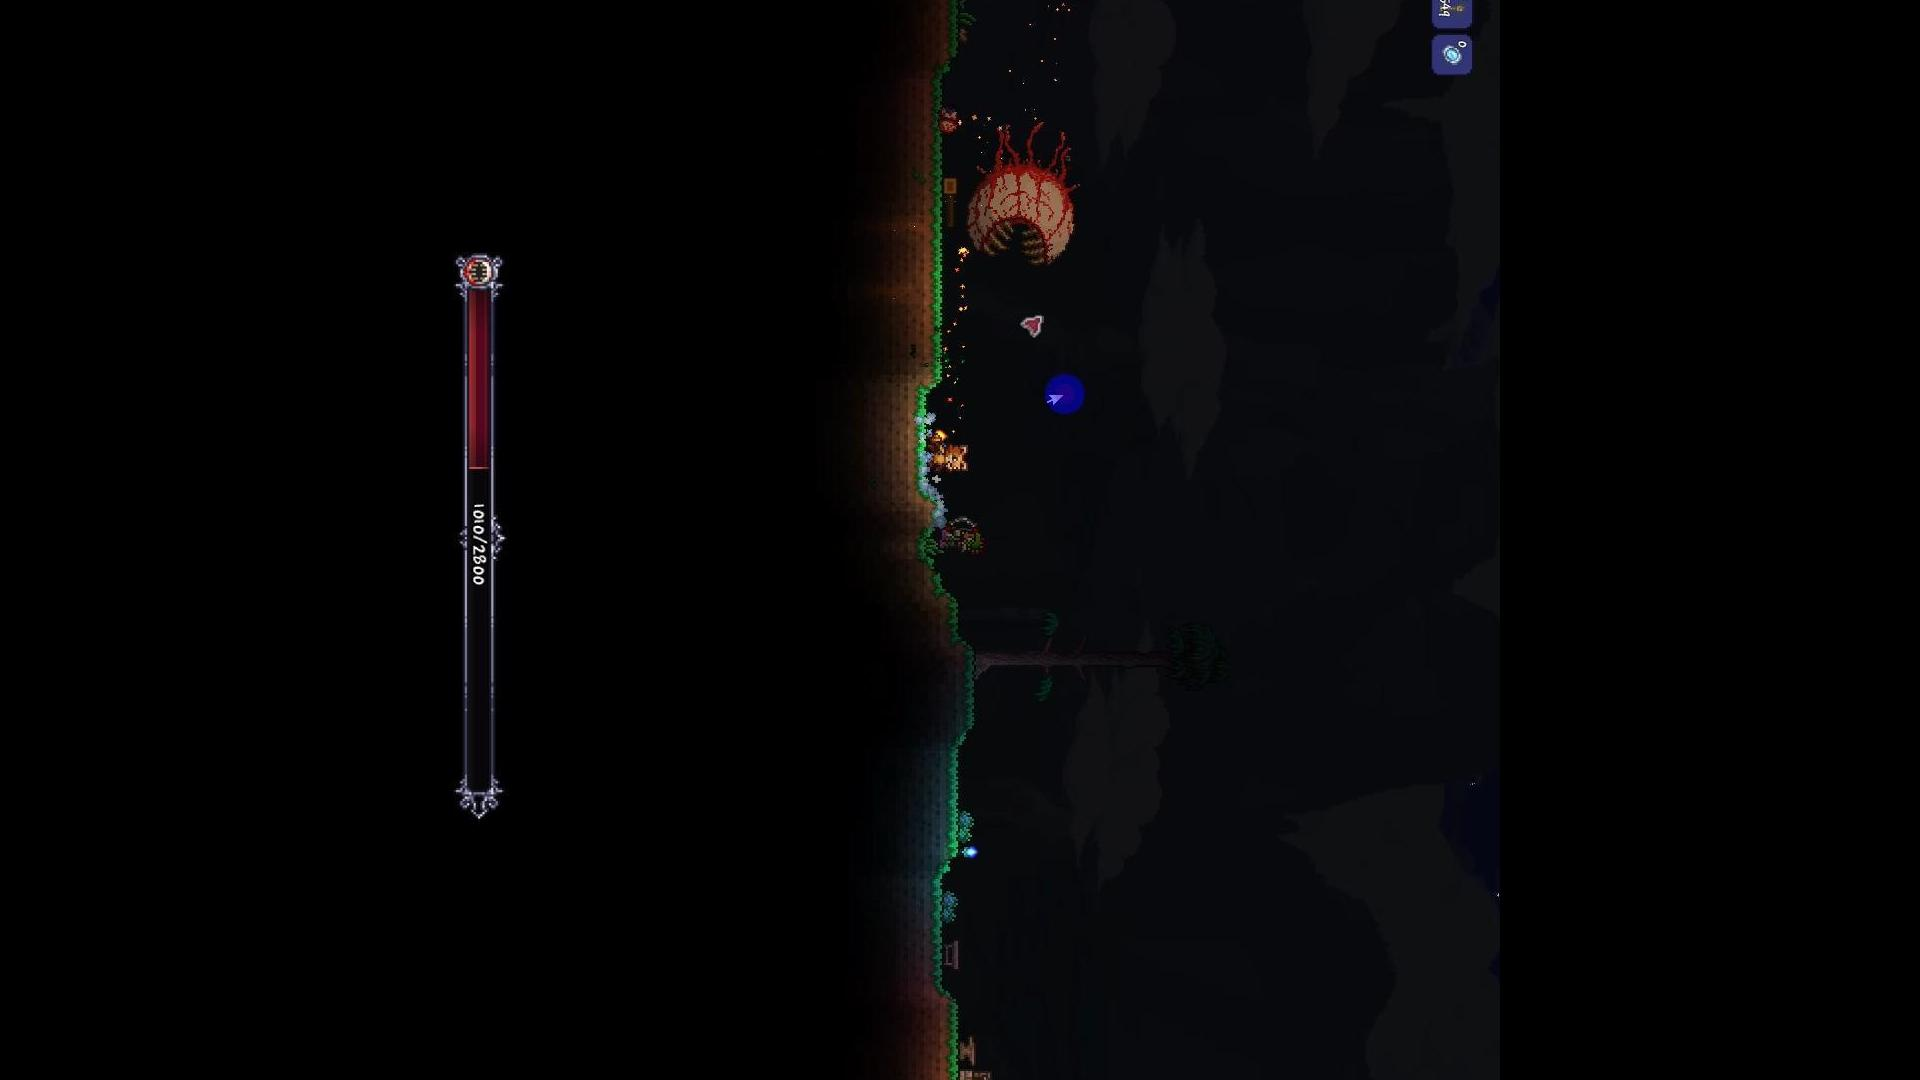anvil: (957, 1030, 981, 1071)
eyeC: (957, 116, 1088, 276)
furnace: (956, 1068, 996, 1080)
workbench: (940, 942, 965, 972)
